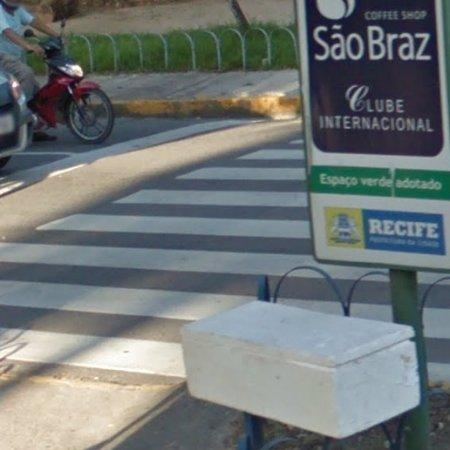crosswalks: (0, 132, 318, 381)
